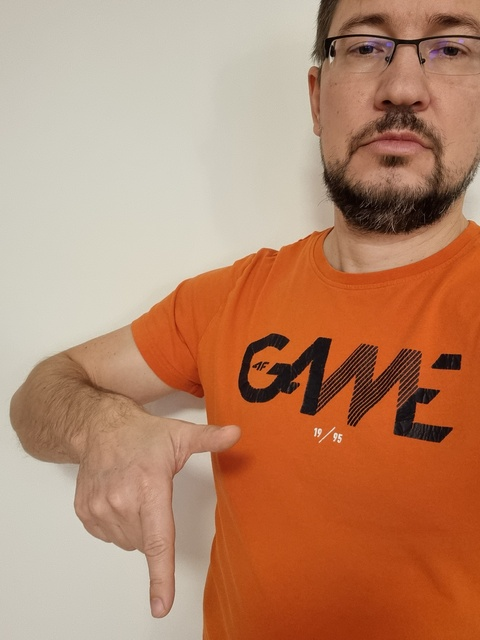GestDown: (73, 419, 243, 618)
